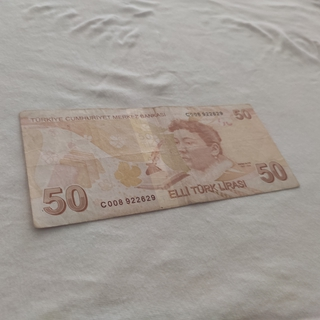50TLBack: (19, 102, 300, 227)
